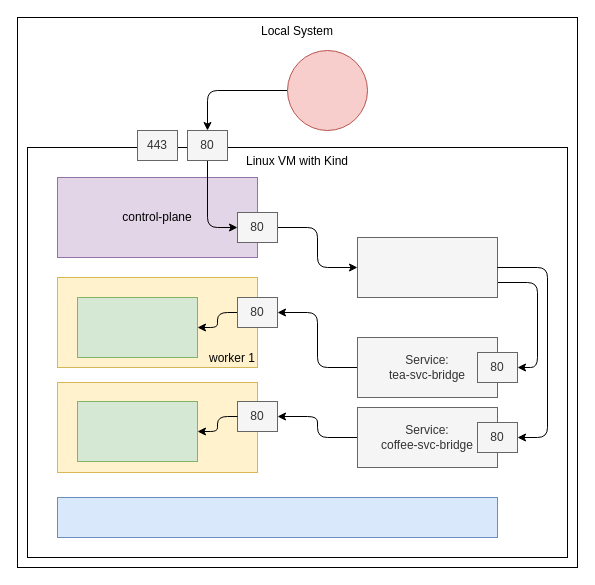
Image size: 595x585. Some labels were removed from this diagram. The box of each missing label's shape, as (x1, y1, x2, y2) in pixels:
Client: (286, 50, 368, 130)
Container runtime: (56, 496, 498, 538)
ingress: (356, 236, 498, 298)
pod app: coffee-api: (76, 400, 198, 462)
pod app: tea-api: (76, 296, 198, 358)
worker 2: (56, 382, 258, 472)
